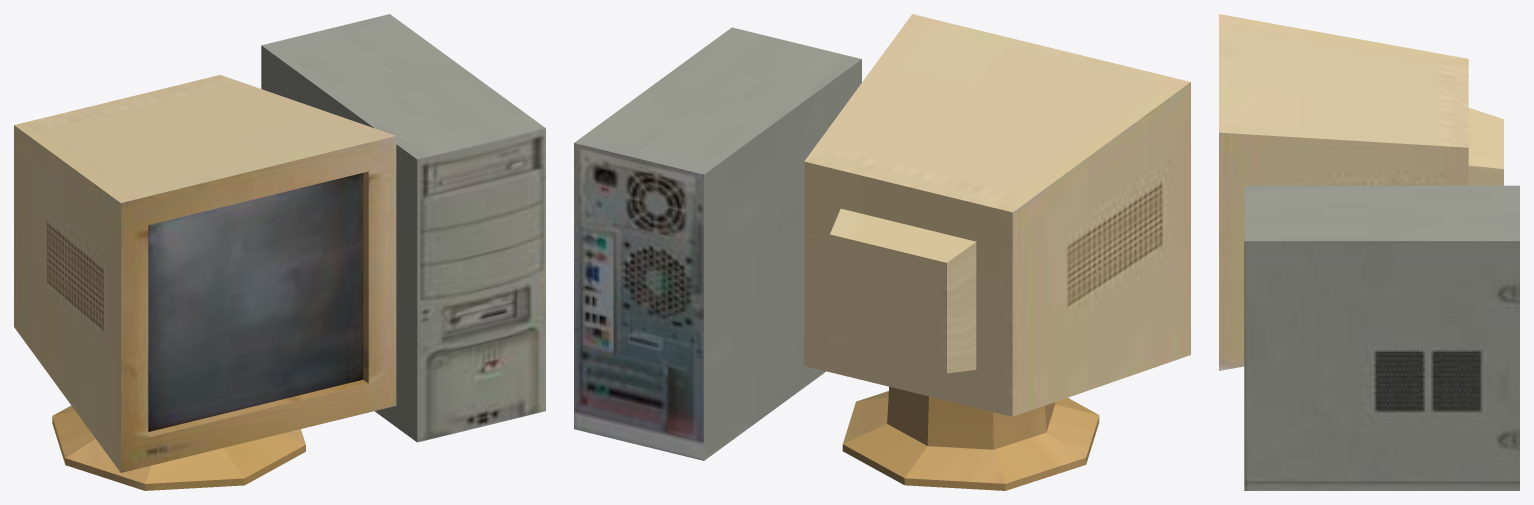
Rendered from retro_monitor_pc_tower.glb.
3 renders of one model, left to right at view 1: azimuth 30°, elevation 25°; view 2: azimuth 150°, elevation 25°; view 3: azimuth 270°, elevation 25°, orthographic. The views are drawn at different scales.
Visible parts, largest first — view 1: Screen, PC block, Handler; view 2: Screen, PC block, Handler; view 3: PC block, Screen.
Part boxes in pixels (x1,y1,x2,y2): Screen: (14,75,396,472); PC block: (261,14,545,442); Handler: (52,405,305,490); Screen: (804,14,1190,416); PC block: (574,27,861,460); Handler: (842,386,1099,490); PC block: (1244,185,1519,490); Screen: (1219,14,1503,370).
Bounding box in the file's own units: 0.6821 × 0.4838 × 0.458.
1 material, 1 textured.
